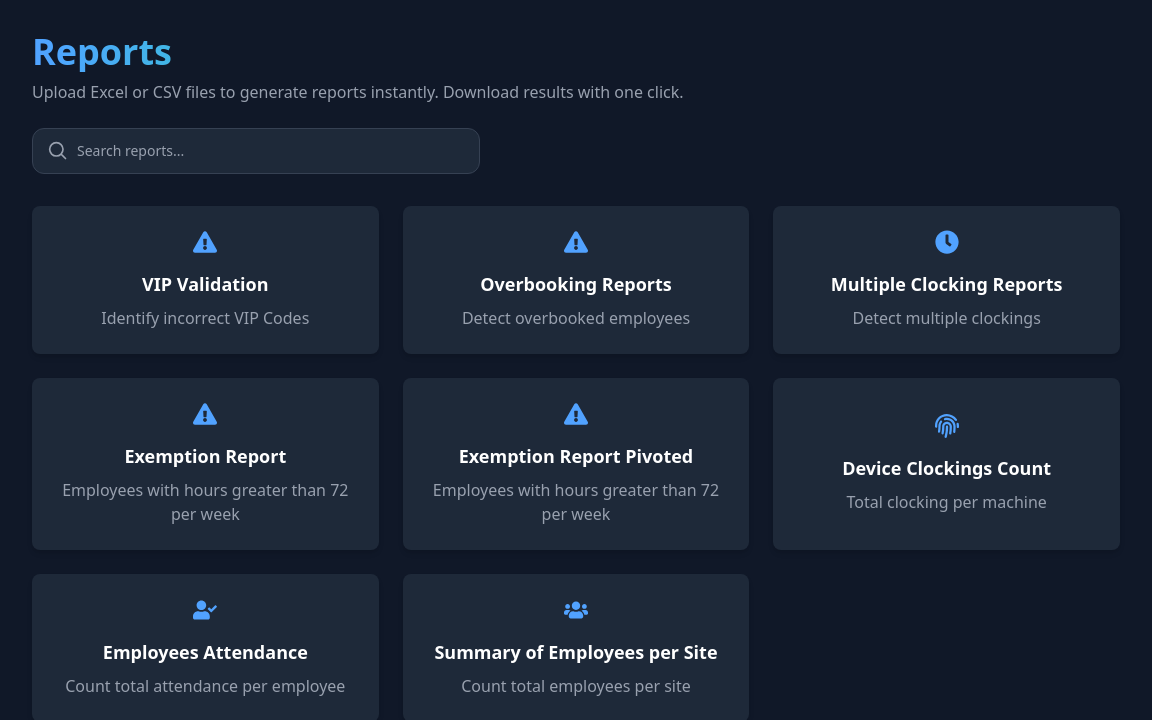
Test case: ReportListPage › clears search when clear button is clicked
The image size is (1152, 720).
Type "employees" into the field labelled "Search reports". click: (256, 151)
box: [32,128,480,174]
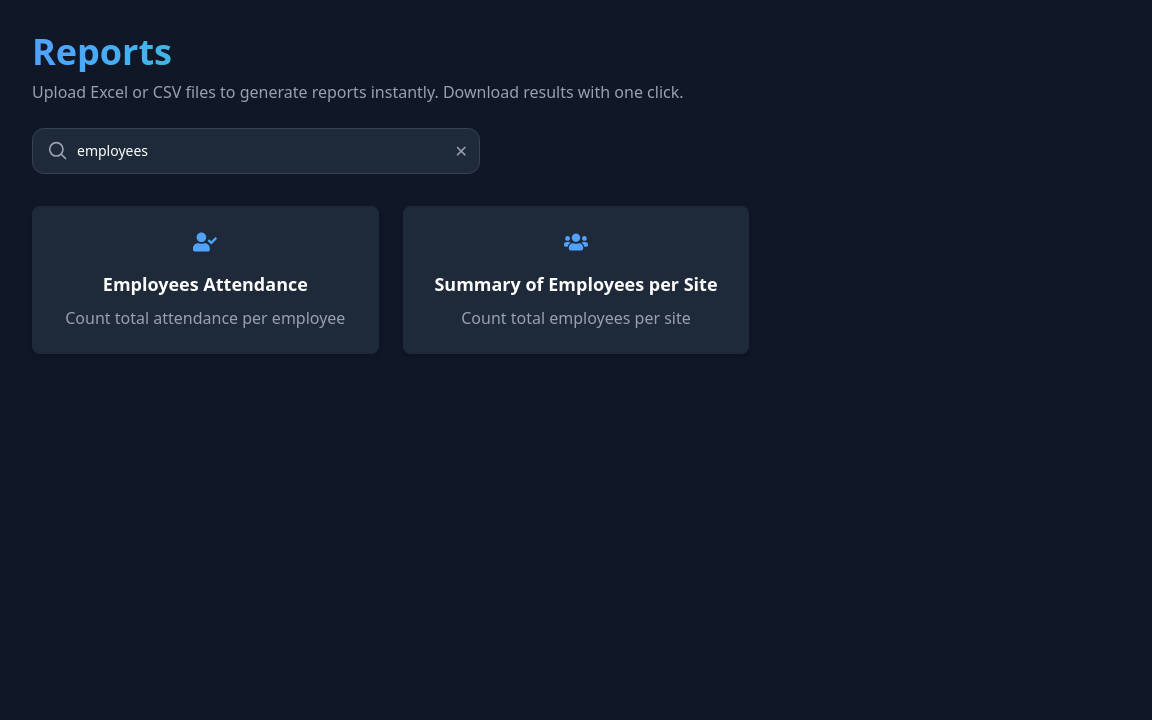
Click the button named "Clear search". click: click(461, 151)
box: [455,139,468,163]
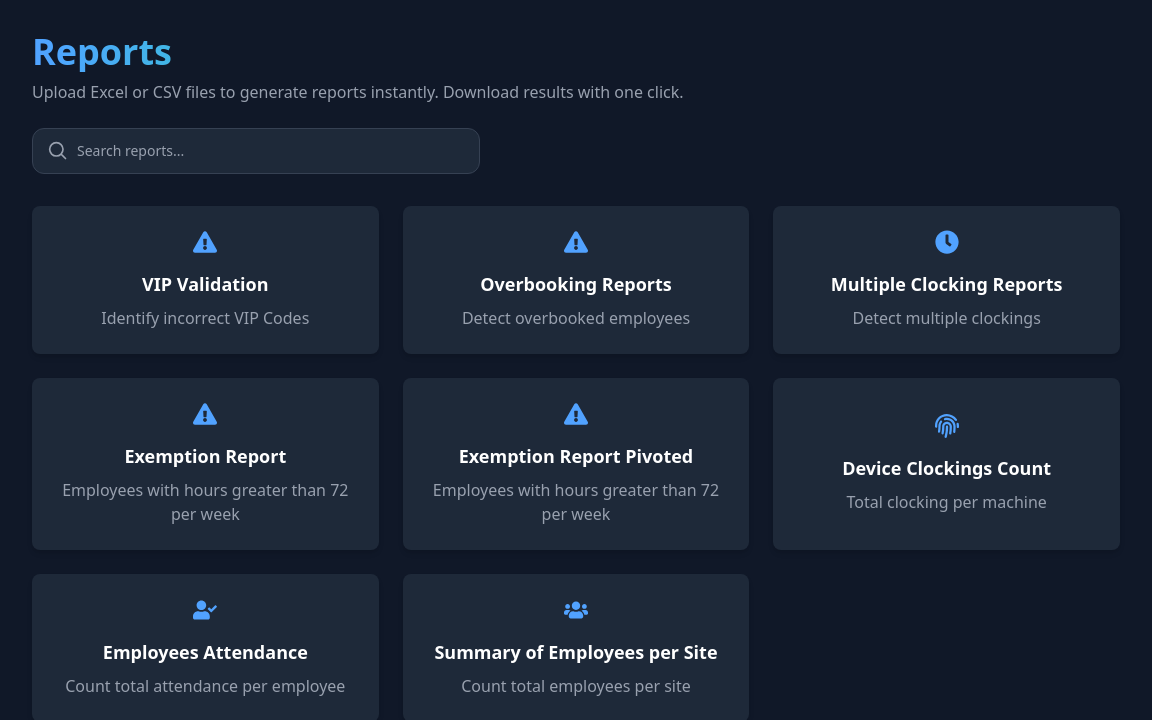
Now the heading "VIP Validation" is shown, box [142,270,268,298]
Now the heading "Overbooking Reports" is shown, box [480,270,672,298]
Now the heading "Multiple Clocking Reports" is shown, box [831,270,1062,298]
